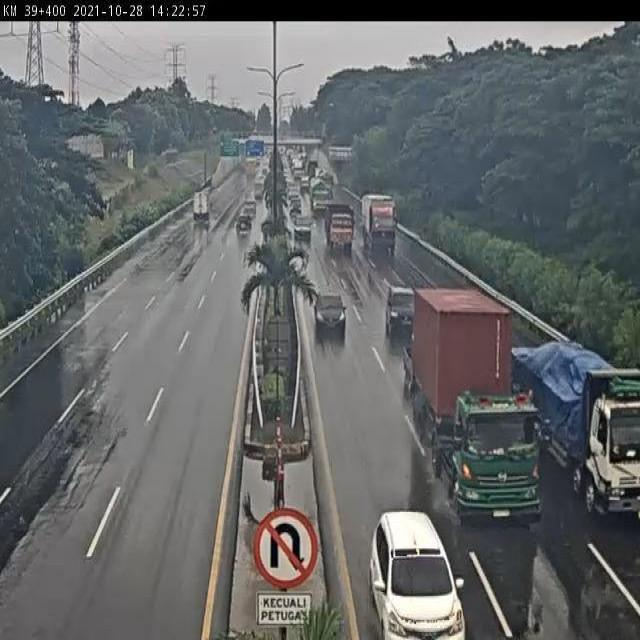truck: (403, 287, 543, 527), (361, 195, 396, 252), (326, 203, 355, 253)
